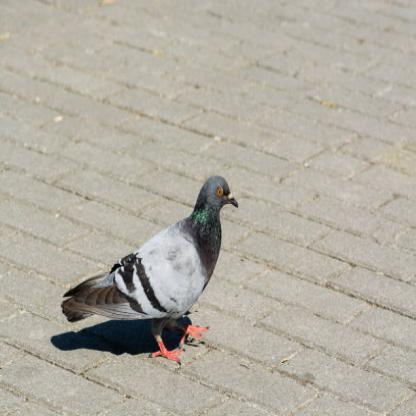Rock Pigeon: (59, 178, 239, 334)
